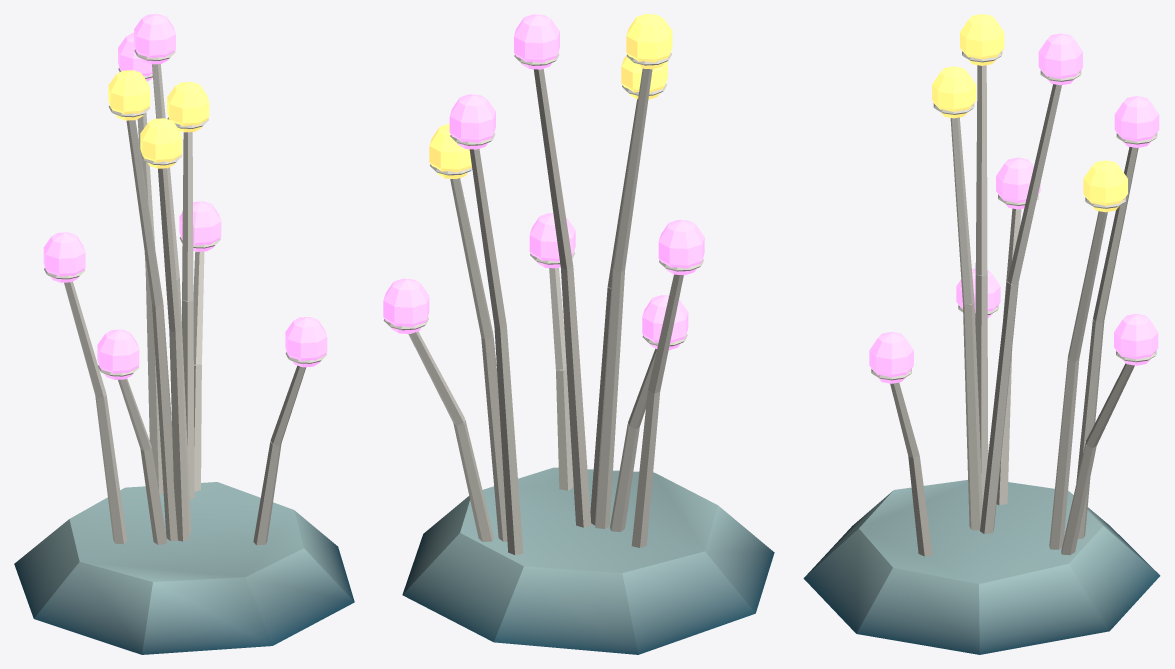
Rendered from prop_lamp_stalks.glb.
3 views of the same model, side by side, from view 1: azimuth 30°, elevation 25°; view 2: azimuth 150°, elevation 25°; view 3: azimuth 270°, elevation 25° (orthographic). The views are drawn at different scales.
Visible parts, largest first — view 1: prop_lamp_stalks_stone, prop_lamp_stalks_bone, prop_lamp_stalks_lume, prop_lamp_stalks_amber; view 2: prop_lamp_stalks_stone, prop_lamp_stalks_bone, prop_lamp_stalks_lume, prop_lamp_stalks_amber; view 3: prop_lamp_stalks_stone, prop_lamp_stalks_bone, prop_lamp_stalks_lume, prop_lamp_stalks_amber.
Boxes of the visible parts, x1,y1,x2,y2 form: prop_lamp_stalks_stone: [14, 482, 354, 654]; prop_lamp_stalks_bone: [44, 49, 326, 545]; prop_lamp_stalks_lume: [43, 14, 327, 379]; prop_lamp_stalks_amber: [108, 70, 209, 168]; prop_lamp_stalks_stone: [402, 467, 774, 654]; prop_lamp_stalks_bone: [383, 53, 703, 555]; prop_lamp_stalks_lume: [383, 14, 704, 350]; prop_lamp_stalks_amber: [429, 14, 672, 178]; prop_lamp_stalks_stone: [803, 480, 1160, 654]; prop_lamp_stalks_bone: [871, 51, 1157, 556]; prop_lamp_stalks_lume: [869, 33, 1159, 383]; prop_lamp_stalks_amber: [932, 14, 1127, 212].
Bounding box in the file's own units: 2.6 × 4.41 × 2.59.
